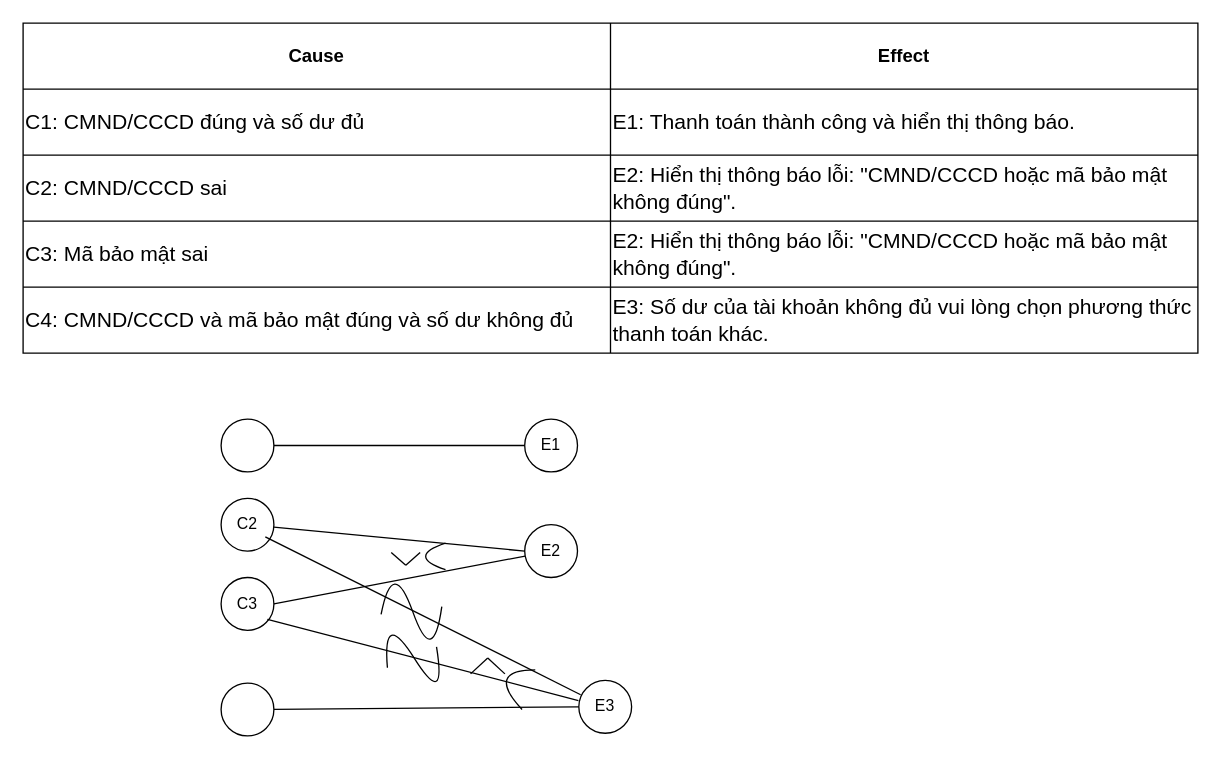
Some shapes in this 1221 by 759 pixel diagram are drawn without their labels. The centre of each missing label's shape, as x and y in pixels:
"C1" belongs at pixel 247 445.
"C4" belongs at pixel 247 709.
